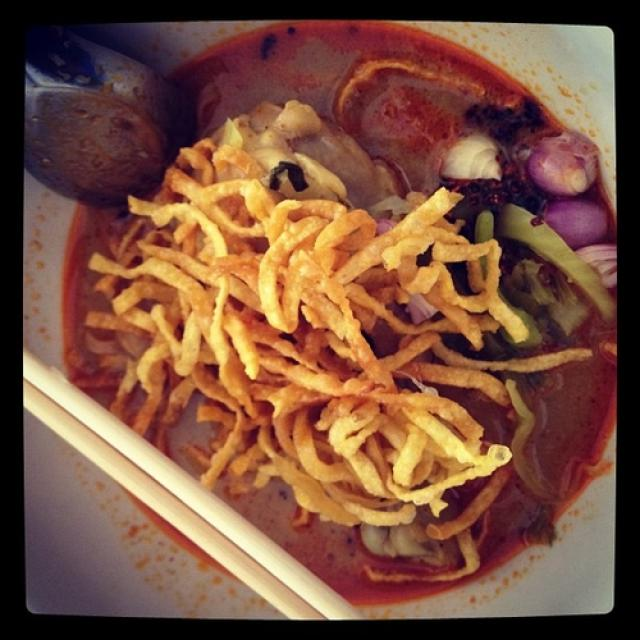面条主食: (59, 42, 591, 602)
